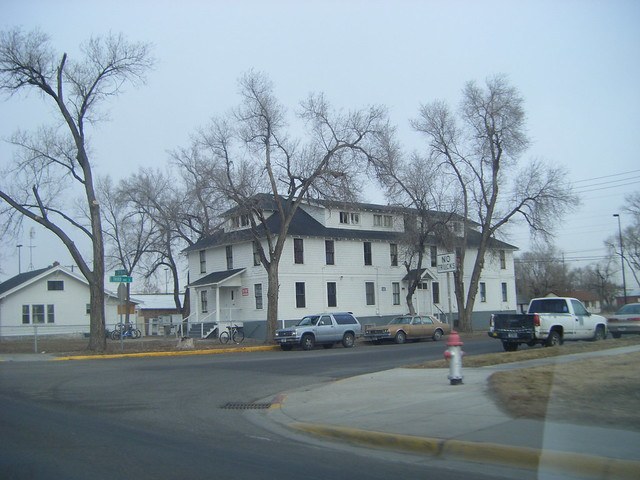car: (274, 312, 361, 347), (364, 314, 454, 342), (609, 302, 640, 337)
